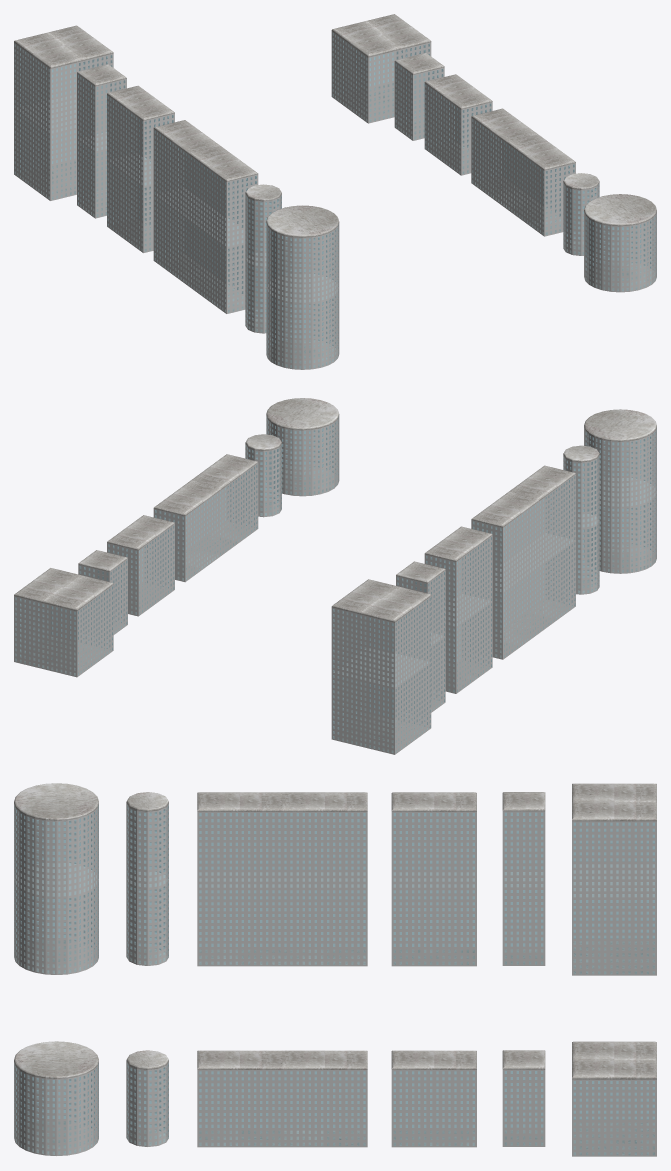
Rendered from rounded_corner_buildings.fbx.
3 views of the same model, one above another, from view 1: azimuth 30°, elevation 25°; view 2: azimuth 150°, elevation 25°; view 3: azimuth 270°, elevation 25° (orthographic). The views are drawn at different scales.
Visible parts, largest first — view 1: Long_2_Tall.001, Cylinder_Large_Tall.001, Square_Tall.001, Long_2.002, Long_1_Tall.001, Square.001, Cylinder_Large.001, Base_Tall.002, Long_1.001, Cylinder_Tall.001, Base.002, Cylinder.001; view 2: Square_Tall.001, Long_2_Tall.001, Cylinder_Large_Tall.001, Square.001, Long_2.002, Long_1_Tall.001, Cylinder_Large.001, Long_1.001, Cylinder_Tall.001, Base_Tall.002, Cylinder.001, Base.002; view 3: Long_2_Tall.001, Long_2.002, Square_Tall.001, Cylinder_Large_Tall.001, Long_1_Tall.001, Square.001, Cylinder_Large.001, Long_1.001, Base_Tall.002, Cylinder_Tall.001, Base.002, Cylinder.001.
Part boxes in pixels (box(x1,y1,x2,y2)): Long_2_Tall.001: box(153, 120, 258, 313); Cylinder_Large_Tall.001: box(266, 205, 339, 369); Square_Tall.001: box(14, 25, 113, 200); Long_2.002: box(471, 108, 575, 236); Long_1_Tall.001: box(107, 85, 174, 253); Square.001: box(331, 14, 431, 123); Cylinder_Large.001: box(584, 194, 656, 292); Base_Tall.002: box(77, 64, 126, 218); Long_1.001: box(424, 74, 492, 175); Cylinder_Tall.001: box(245, 184, 281, 333); Base.002: box(394, 53, 444, 140); Cylinder.001: box(563, 173, 599, 255); Square_Tall.001: box(331, 579, 431, 754); Long_2_Tall.001: box(471, 465, 575, 659); Cylinder_Large_Tall.001: box(584, 409, 656, 573); Square.001: box(14, 568, 113, 677); Long_2.002: box(153, 454, 258, 582); Long_1_Tall.001: box(424, 526, 492, 693); Cylinder_Large.001: box(266, 398, 339, 496); Long_1.001: box(107, 515, 174, 616); Cylinder_Tall.001: box(563, 445, 599, 594); Base_Tall.002: box(396, 561, 445, 712); Cylinder.001: box(245, 434, 281, 517); Base.002: box(78, 550, 127, 634); Long_2_Tall.001: box(197, 792, 367, 966); Long_2.002: box(197, 1050, 367, 1147); Square_Tall.001: box(572, 783, 656, 975); Cylinder_Large_Tall.001: box(14, 783, 98, 974); Long_1_Tall.001: box(391, 792, 476, 966); Square.001: box(572, 1041, 656, 1156); Cylinder_Large.001: box(14, 1041, 98, 1155); Long_1.001: box(391, 1050, 476, 1147); Base_Tall.002: box(502, 792, 545, 965); Cylinder_Tall.001: box(126, 792, 168, 965); Base.002: box(502, 1050, 545, 1146); Cylinder.001: box(126, 1050, 168, 1146).
Size of the model in its own units: 2412 by 815 by 3020.
